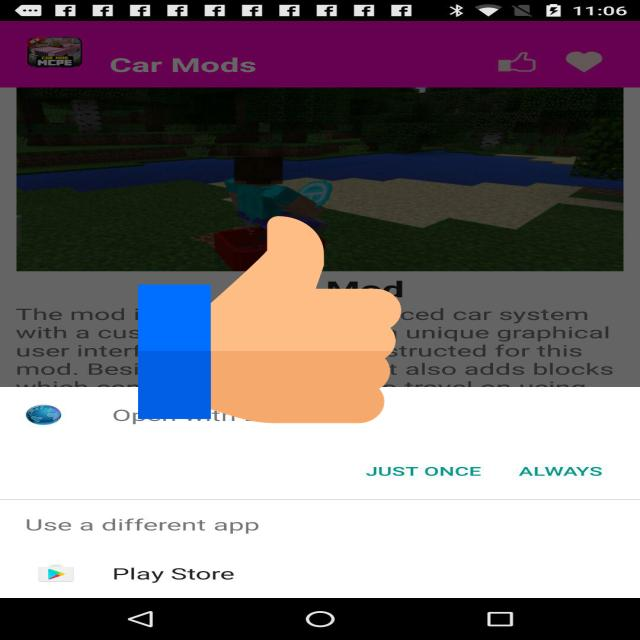privacy zuckering: (138, 211, 401, 428)
